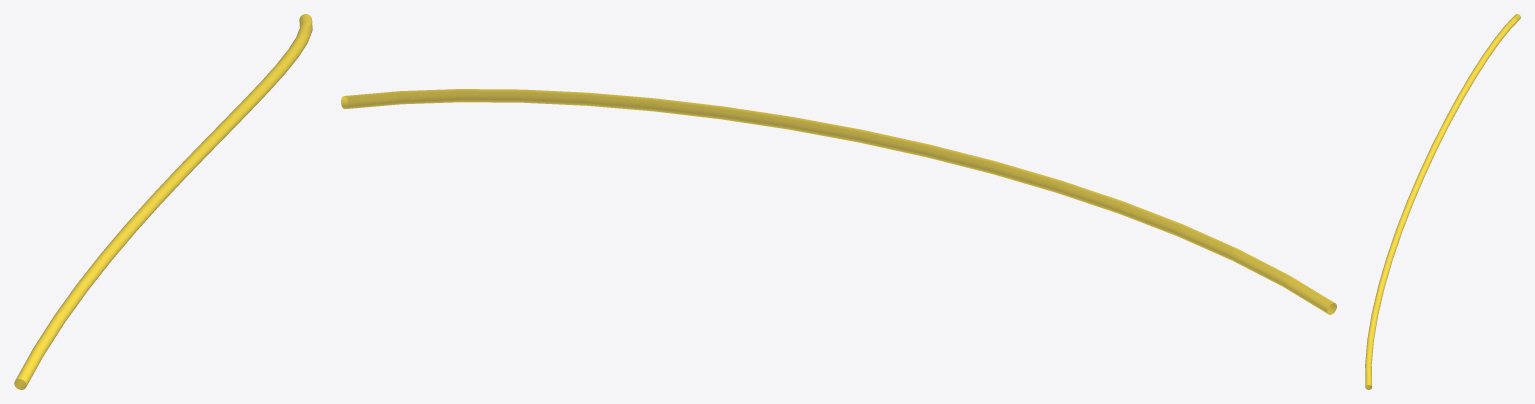
File: Event_31209032_track_40.fbx
3 views of the same model, side by side, from view 1: azimuth 90°, elevation 25°; view 2: azimuth 150°, elevation 25°; view 3: azimuth 270°, elevation 25° (orthographic). The views are drawn at different scales.
Visible parts, largest first — view 1: Model; view 2: Model; view 3: Model.
Part boxes in pixels (<box>): Model: <box>14,14,312,389</box>; Model: <box>341,89,1336,314</box>; Model: <box>1365,14,1520,389</box>.
Bounding box in the file's own units: 3.97 × 0.668 × 0.9293.
